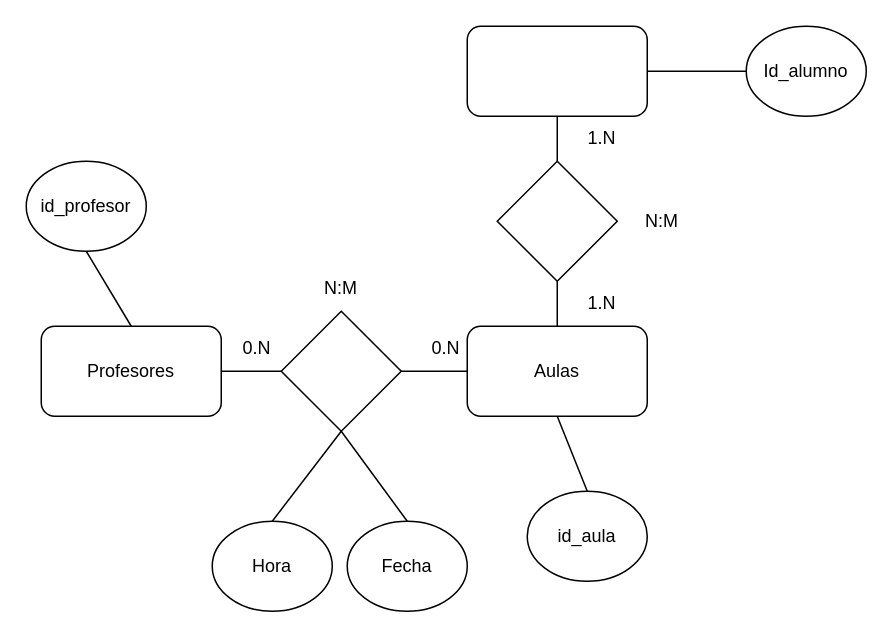
The diagram is 893 pixels wide and 638 high, and some of its shapes have lost their labels. Here are the shapes that lost their labels. From the top down, the box of each, then its label:
(466, 25, 647, 116): Alumnos
(496, 160, 617, 281): Incidencias
(280, 310, 401, 431): Reservan
